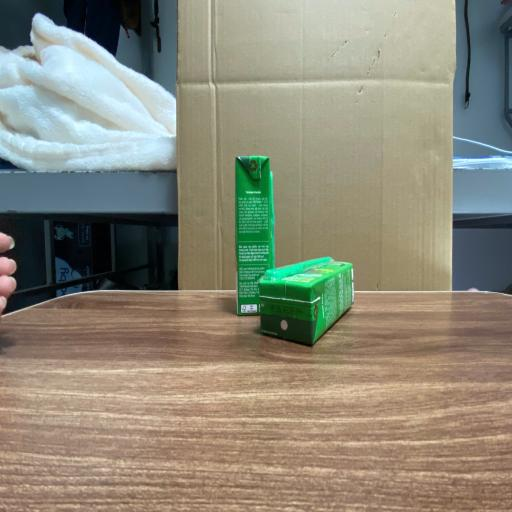milo: (260, 255, 354, 345), (235, 154, 274, 315)
